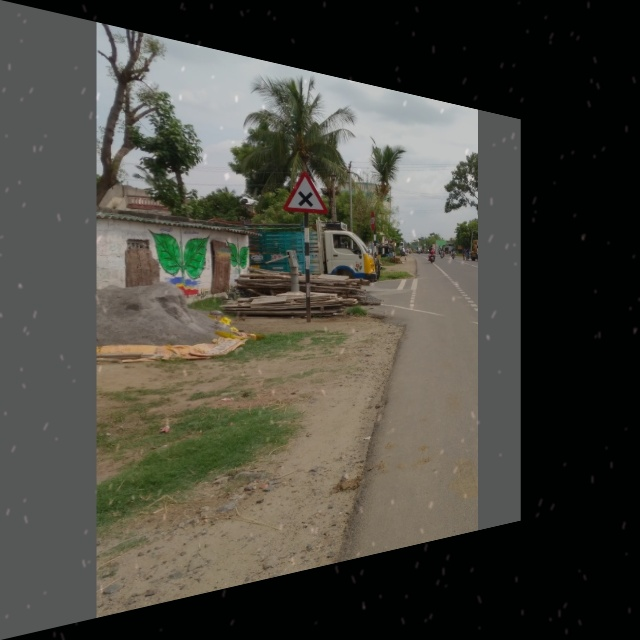Cross_Road: (280, 165, 329, 216)
